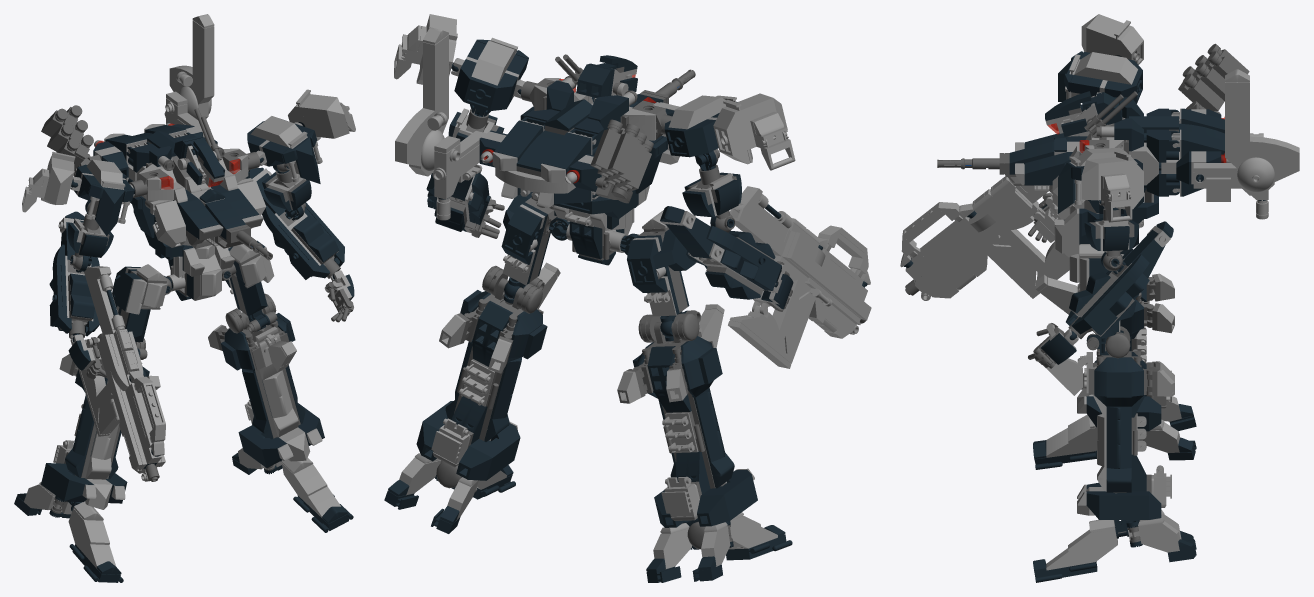
File: cr-c840-ul-lightweight.dae
3 views of the same model, side by side, from view 1: azimuth 30°, elevation 25°; view 2: azimuth 150°, elevation 25°; view 3: azimuth 270°, elevation 25° (orthographic). The views are drawn at different scales.
Size of the model in its own units: 665 by 642 by 869.
